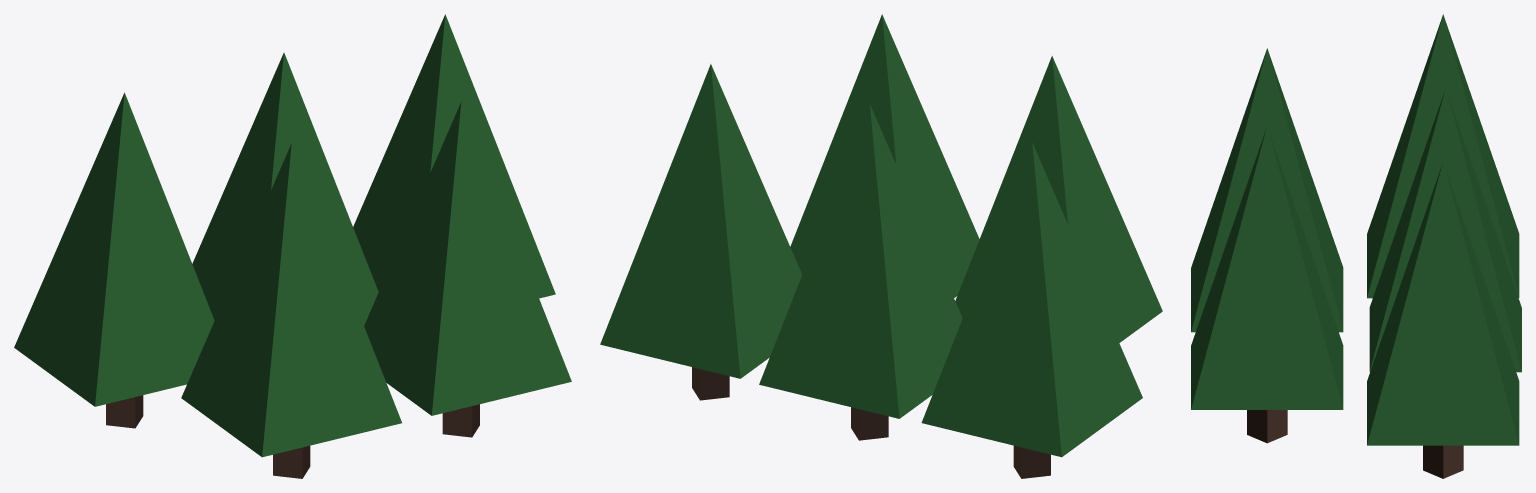
The model's file is TB_Env_Tree_B_Large.FBX.
3 renders of one model, left to right at view 1: azimuth 30°, elevation 25°; view 2: azimuth 150°, elevation 25°; view 3: azimuth 270°, elevation 25°, orthographic. The views are drawn at different scales.
Parts seen in each view (by area): view 1: TB_Env_Tree_B_Large; view 2: TB_Env_Tree_B_Large; view 3: TB_Env_Tree_B_Large.
Boxes of the visible parts, box(x1,y1,x2,y2) form: TB_Env_Tree_B_Large: box(14, 14, 571, 478); TB_Env_Tree_B_Large: box(600, 14, 1162, 478); TB_Env_Tree_B_Large: box(1191, 14, 1521, 478).
Bounding box in the file's own units: 8.88 × 6.04 × 5.86.
